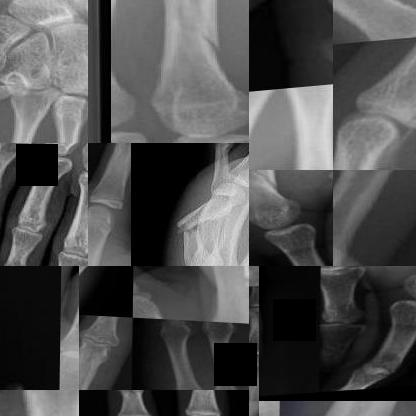fracture: (142, 0, 233, 63), (249, 170, 298, 213), (333, 170, 415, 191), (306, 401, 415, 415), (172, 206, 209, 245), (249, 266, 259, 293)
